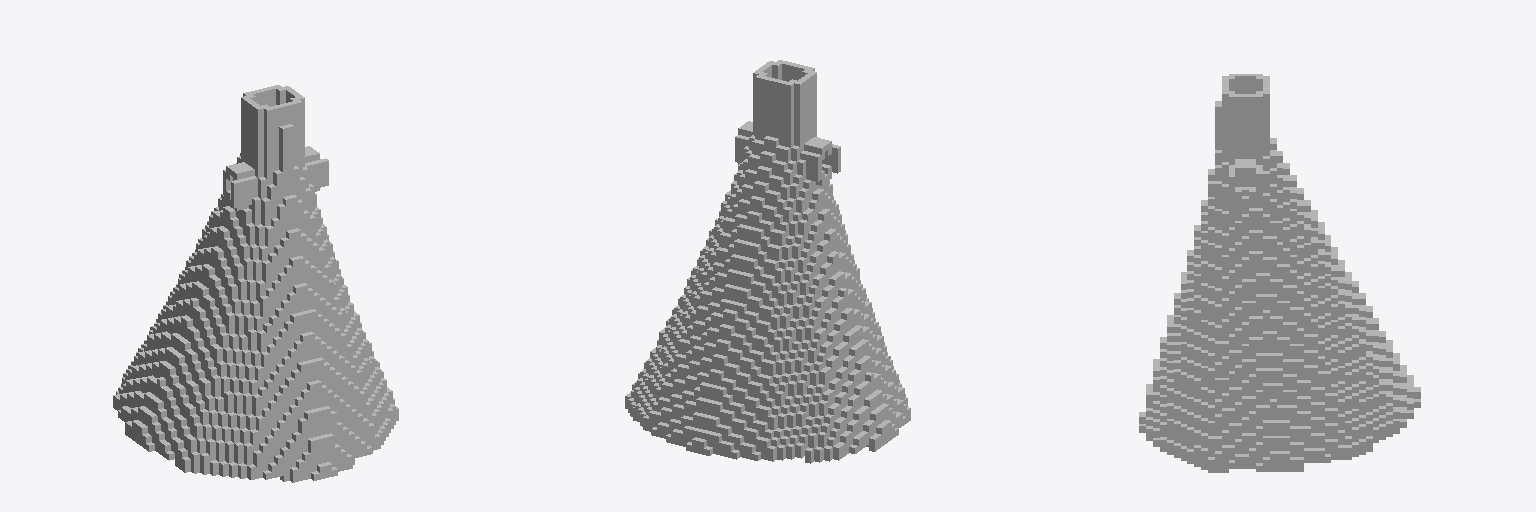
File: body.obj
3 renders of one model, left to right at view 1: azimuth 30°, elevation 25°; view 2: azimuth 150°, elevation 25°; view 3: azimuth 270°, elevation 25°, orthographic.
Parts seen in each view (by area): view 1: Ida; view 2: Ida; view 3: Ida.
Part boxes in pixels (x1,y1,x2,y2): Ida: (113,85,398,482); Ida: (625,60,910,463); Ida: (1139,74,1420,472).
Size of the model in its own units: 4 by 5.5 by 4.1.